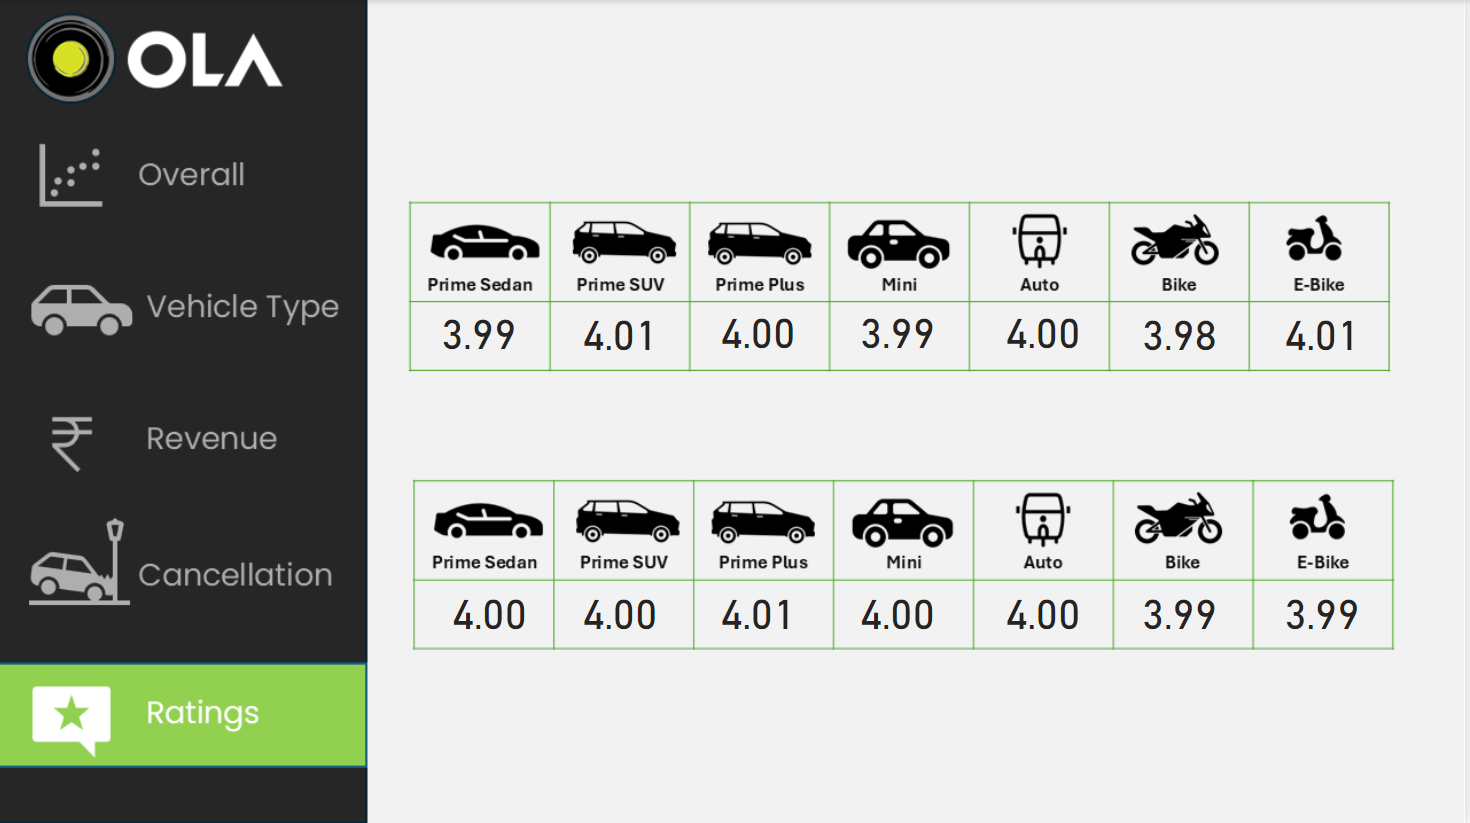

The page's visual inventory and layout, read from the dashboard file:
{"tool":"powerbi","page":{"name":"Ratings","canvas":[1280,720],"ordinal":4},"visuals":[{"type":"actionButton","box":[0,228.7,320.7,87.7],"z":0},{"type":"actionButton","box":[0,339.4,320.7,87.7],"z":1000},{"type":"actionButton","box":[0,444.4,320.7,87.7],"z":2000},{"type":"actionButton","box":[0,579.6,320.7,87.7],"z":3000},{"type":"actionButton","box":[0,106.4,320.7,87.7],"z":4000},{"type":"card","fields":{"Values":["Avg(July.Driver_Ratings)"]},"box":[338.7,272,163.4,52.3],"z":5000},{"type":"card","fields":{"Values":["Avg(July.Driver_Ratings)"]},"box":[461.6,273.2,163.9,51.8],"z":5001},{"type":"card","fields":{"Values":["Avg(July.Driver_Ratings)"]},"box":[582.4,271.8,163.9,51.8],"z":5002},{"type":"card","fields":{"Values":["Avg(July.Driver_Ratings)"]},"box":[703.2,271.8,163.9,51.8],"z":5003},{"type":"card","fields":{"Values":["Avg(July.Driver_Ratings)"]},"box":[829.8,271.8,163.9,51.8],"z":5004},{"type":"card","fields":{"Values":["Avg(July.Driver_Ratings)"]},"box":[949.2,273.2,163.9,51.8],"z":5005},{"type":"card","fields":{"Values":["Avg(July.Driver_Ratings)"]},"box":[1072.8,273.2,163.9,51.8],"z":5006},{"type":"card","fields":{"Values":["Avg(July.Customer_Rating)"]},"box":[348,516.3,163.9,51.8],"z":5007},{"type":"card","fields":{"Values":["Avg(July.Customer_Rating)"]},"box":[461.6,516.3,163.9,51.8],"z":5008},{"type":"card","fields":{"Values":["Avg(July.Customer_Rating)"]},"box":[582.4,516.3,163.9,51.8],"z":5009},{"type":"card","fields":{"Values":["Avg(July.Customer_Rating)"]},"box":[703.2,516.3,163.9,51.8],"z":5010},{"type":"card","fields":{"Values":["Avg(July.Customer_Rating)"]},"box":[829.8,516.3,163.9,51.8],"z":5011},{"type":"card","fields":{"Values":["Avg(July.Customer_Rating)"]},"box":[949.2,516.3,163.9,51.8],"z":5012},{"type":"card","fields":{"Values":["Avg(July.Customer_Rating)"]},"box":[1072.8,516.3,163.9,51.8],"z":5013}]}

Visuals, with their boxes on the page's 1280x720 design canvas (x1, y1, x2, y2). These are canvas units, not pixel positions in the 1470x823 screenshot, which may show the page scaled, cropped or inside an application window:
actionButton: select_region(0, 229, 321, 316)
actionButton: select_region(0, 339, 321, 427)
actionButton: select_region(0, 444, 321, 532)
actionButton: select_region(0, 580, 321, 667)
actionButton: select_region(0, 106, 321, 194)
card - Avg(July.Driver_Ratings): select_region(339, 272, 502, 324)
card - Avg(July.Driver_Ratings): select_region(462, 273, 626, 325)
card - Avg(July.Driver_Ratings): select_region(582, 272, 746, 324)
card - Avg(July.Driver_Ratings): select_region(703, 272, 867, 324)
card - Avg(July.Driver_Ratings): select_region(830, 272, 994, 324)
card - Avg(July.Driver_Ratings): select_region(949, 273, 1113, 325)
card - Avg(July.Driver_Ratings): select_region(1073, 273, 1237, 325)
card - Avg(July.Customer_Rating): select_region(348, 516, 512, 568)
card - Avg(July.Customer_Rating): select_region(462, 516, 626, 568)
card - Avg(July.Customer_Rating): select_region(582, 516, 746, 568)
card - Avg(July.Customer_Rating): select_region(703, 516, 867, 568)
card - Avg(July.Customer_Rating): select_region(830, 516, 994, 568)
card - Avg(July.Customer_Rating): select_region(949, 516, 1113, 568)
card - Avg(July.Customer_Rating): select_region(1073, 516, 1237, 568)
